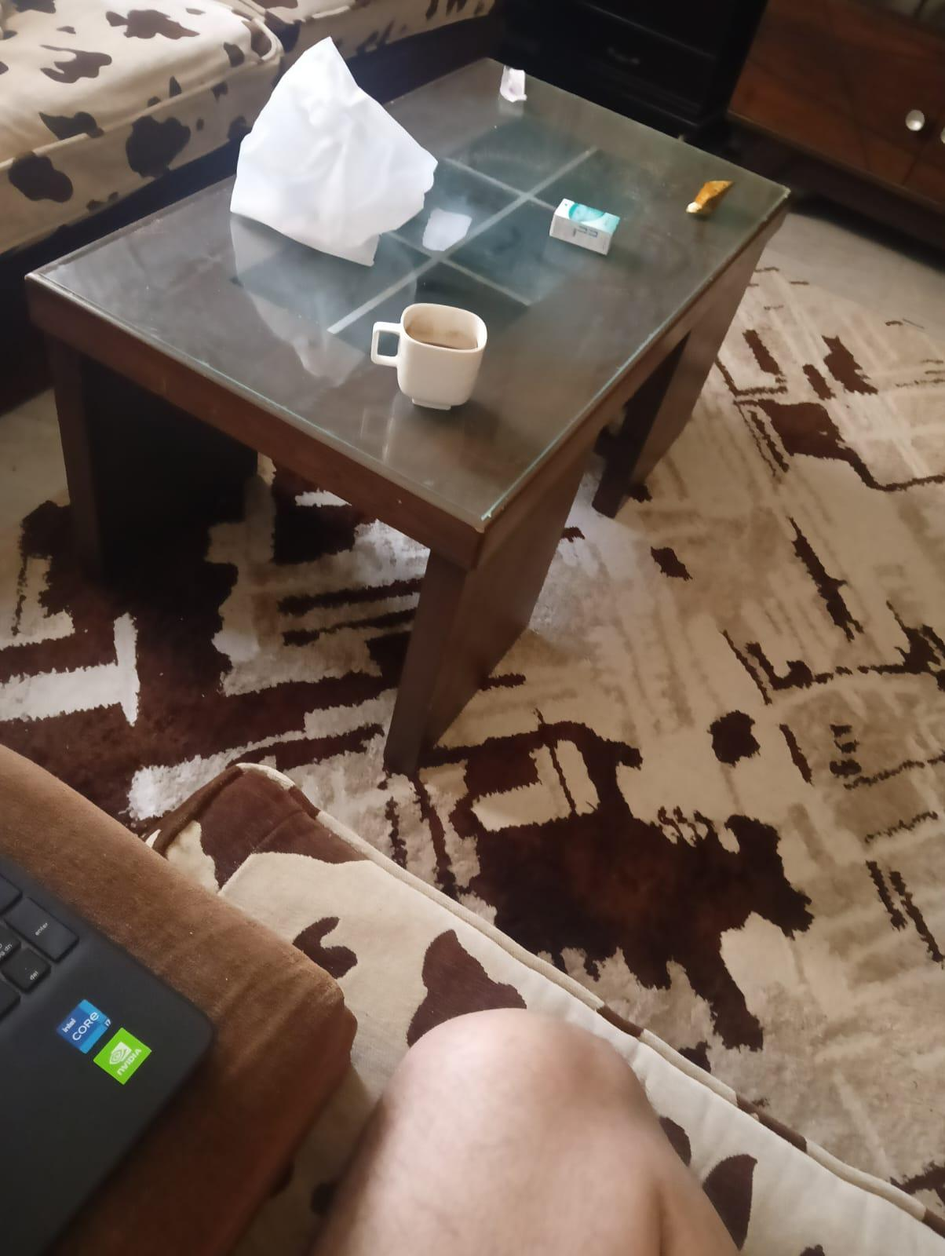cup: (371, 303, 486, 409)
